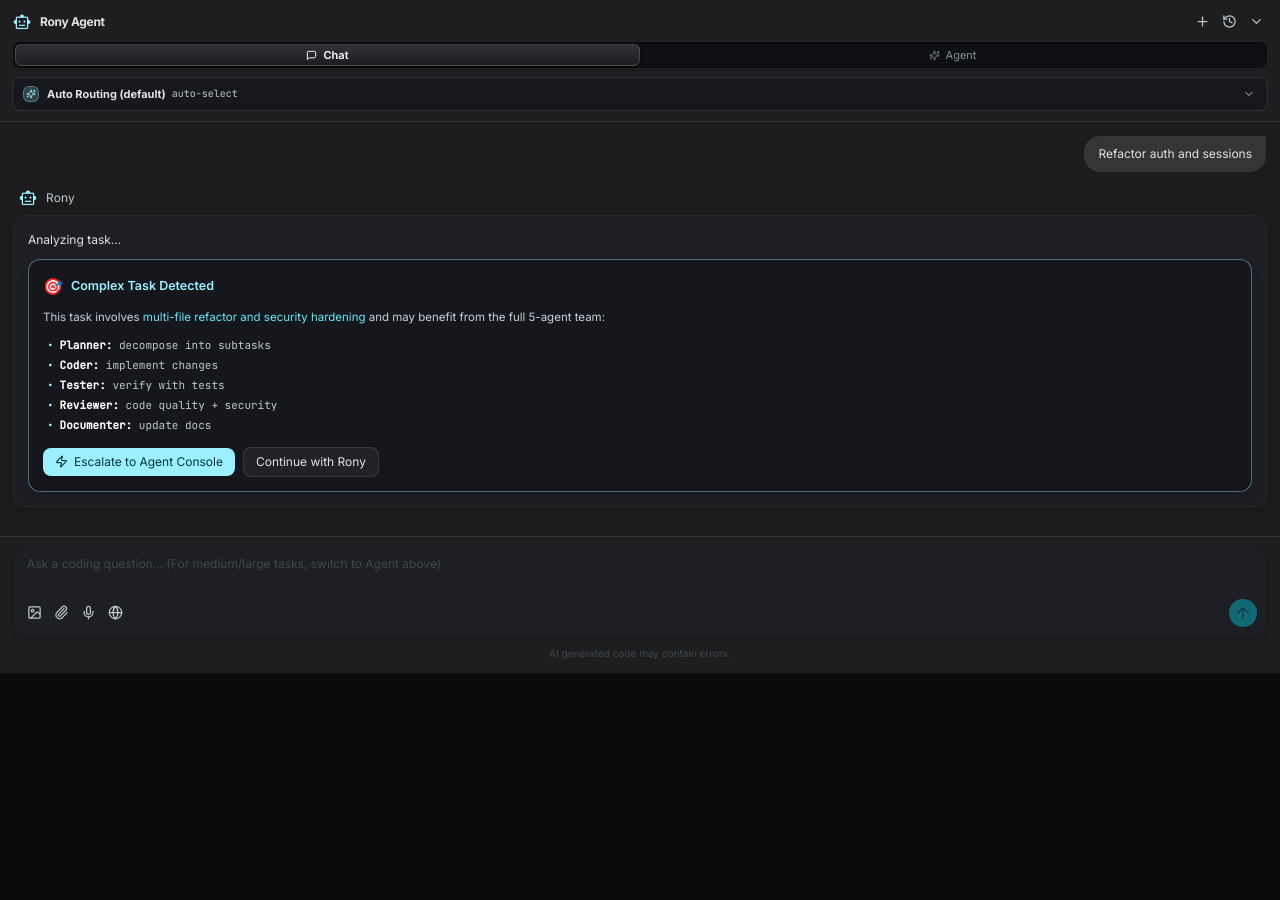
Test: Phase 7: Adaptive Orchestration Frontend Tests › test_escalate_button_posts_job: clicking Escalate posts to /api/team/jobs/from-rony and shows badge
Step 1. Click the button with test id "escalate-btn" → {"x": 139, "y": 462}, box [43,448,235,476]
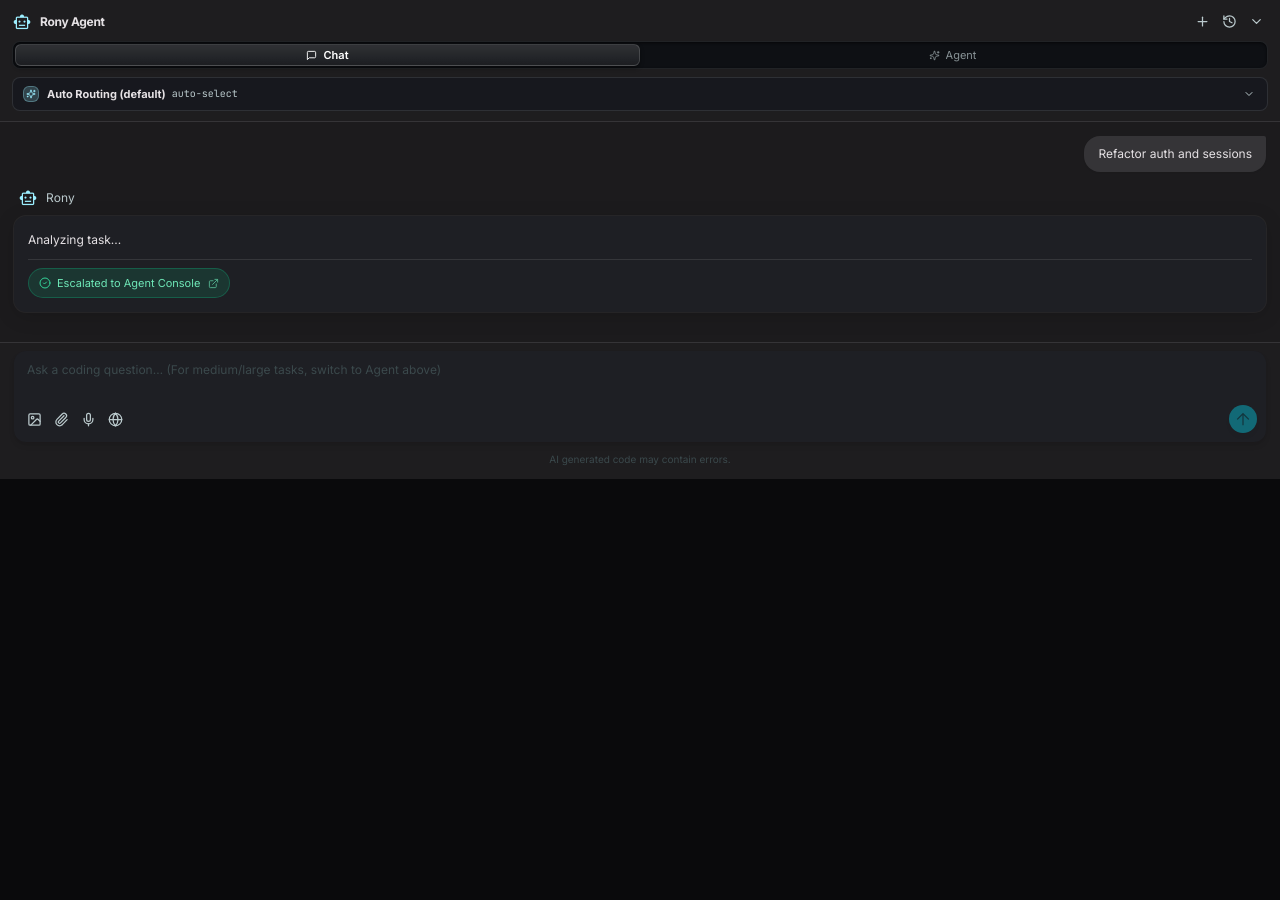
Check: the element with test id "escalated-badge" is shown, box [28,268,230,298]
Check: the element with test id "escalated-badge" reads "Escalated to Agent Console", box [57,276,200,290]
